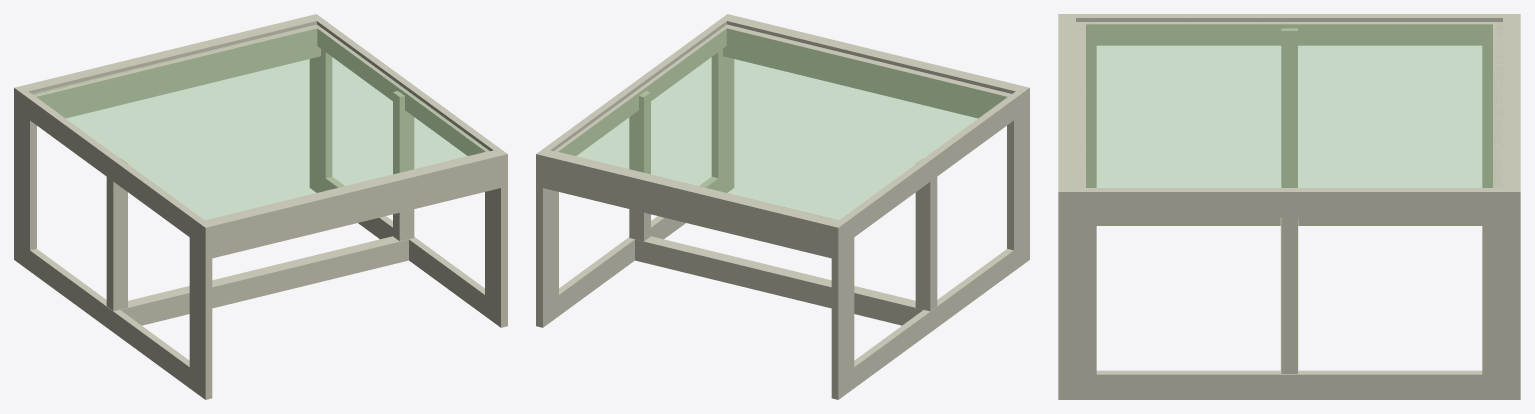
File: MejaL1.fbx
3 renders of one model, left to right at view 1: azimuth 30°, elevation 25°; view 2: azimuth 150°, elevation 25°; view 3: azimuth 270°, elevation 25°, orthographic. The views are drawn at different scales.
Visible parts, largest first — view 1: Table Glass.002, Table Glass, Table Glass.005, Table Glass.004; view 2: Table Glass.002, Table Glass, Table Glass.005, Table Glass.004; view 3: Table Glass.002, Table Glass, Table Glass.005, Table Glass.004.
Part boxes in pixels (left/top/right/bottom): Table Glass.002: left=14, top=14, right=507, bottom=399; Table Glass: left=32, top=26, right=488, bottom=220; Table Glass.005: left=106, top=158, right=127, bottom=311; Table Glass.004: left=393, top=91, right=414, bottom=241; Table Glass.002: left=536, top=14, right=1029, bottom=399; Table Glass: left=559, top=28, right=1006, bottom=220; Table Glass.005: left=915, top=159, right=937, bottom=311; Table Glass.004: left=629, top=91, right=650, bottom=241; Table Glass.002: left=1058, top=14, right=1520, bottom=399; Table Glass: left=1086, top=22, right=1502, bottom=187; Table Glass.005: left=1281, top=28, right=1297, bottom=187; Table Glass.004: left=1281, top=217, right=1297, bottom=373.
Bounding box in the file's own units: 241 × 131 × 264.
